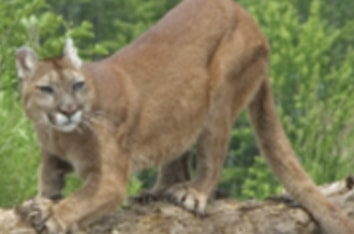Mountain Lion: (15, 5, 350, 232)
